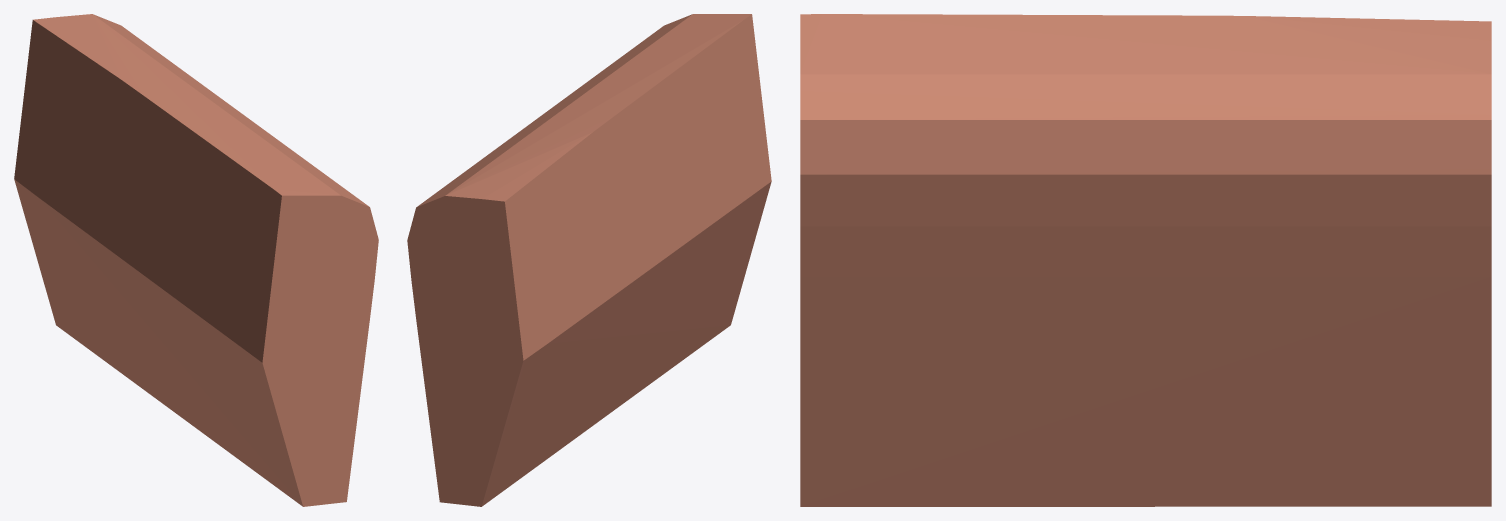
The model's file is converted_Downdraft_Assy_collision_46_ce8971ff.obj.
The picture shows the model from 3 angles, left to right: view 1: azimuth 30°, elevation 25°; view 2: azimuth 150°, elevation 25°; view 3: azimuth 270°, elevation 25°; orthographic projection. The views are drawn at different scales.
Size of the model in its own units: 0.0469 by 0.124 by 0.173.
